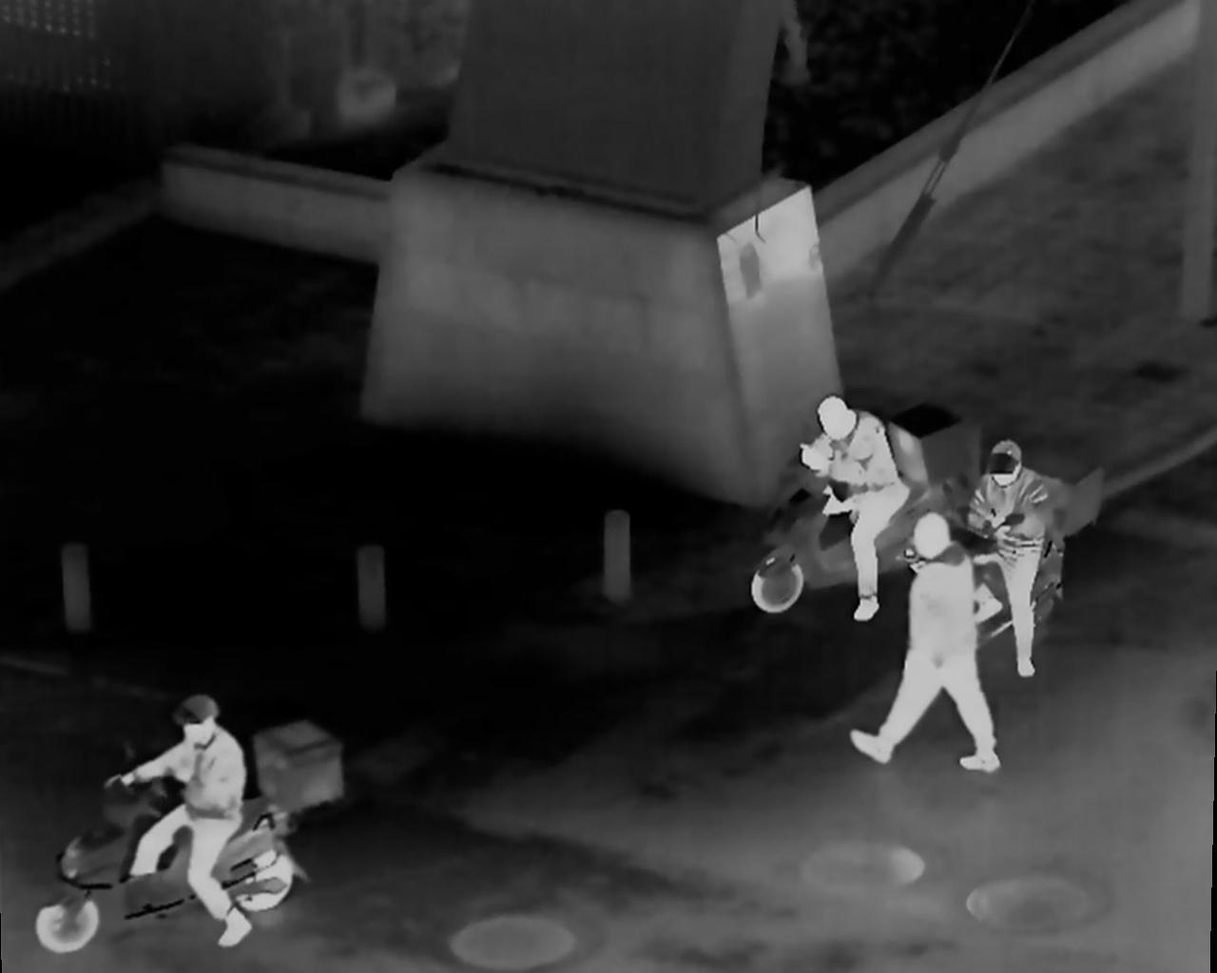person: (849, 515, 1000, 770), (119, 696, 266, 944), (787, 390, 918, 648), (976, 449, 1046, 658)
